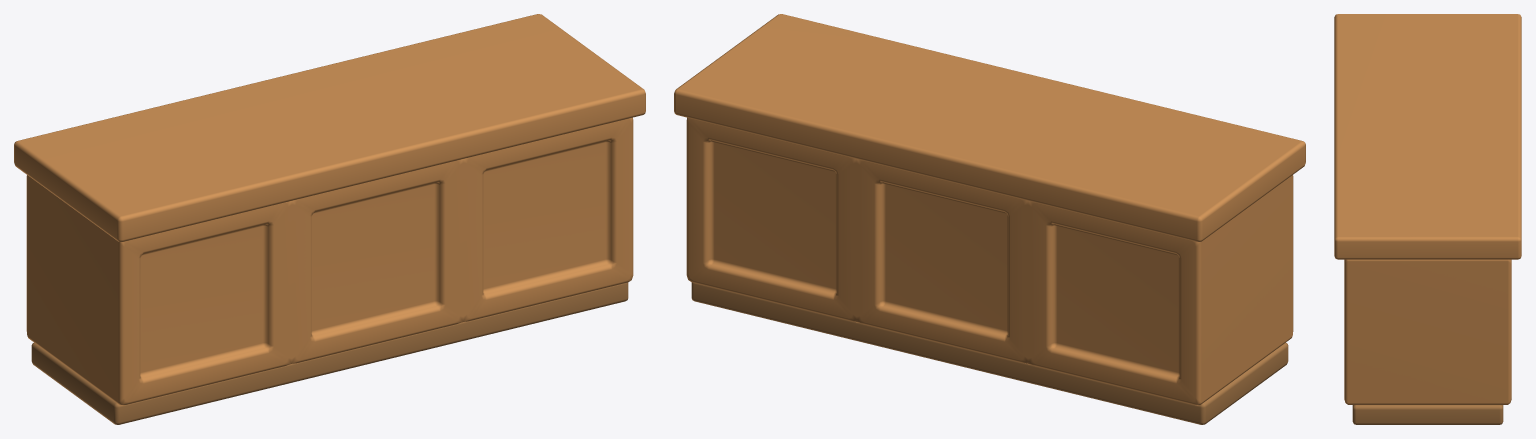
File: SM_service_counter.glb
3 views of the same model, side by side, from view 1: azimuth 30°, elevation 25°; view 2: azimuth 150°, elevation 25°; view 3: azimuth 270°, elevation 25° (orthographic). The views are drawn at different scales.
Visible parts, largest first — view 1: SM_service_counter; view 2: SM_service_counter; view 3: SM_service_counter.
Part boxes in pixels (box(x1,y1,x2,y2)): SM_service_counter: box(14, 14, 645, 424); SM_service_counter: box(674, 14, 1305, 424); SM_service_counter: box(1334, 14, 1521, 424).
Size of the model in its own units: 2.77 by 1.09 by 0.9725.
Materials: 1 (1 with a texture image).
